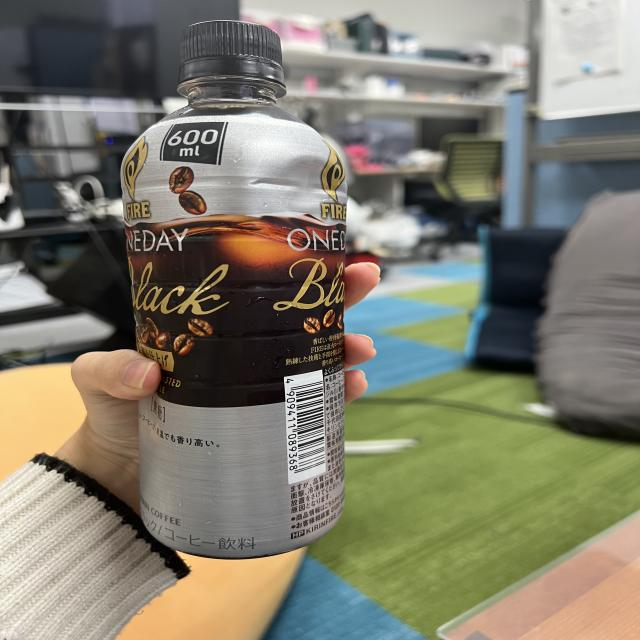coffee-black: (119, 17, 352, 576)
